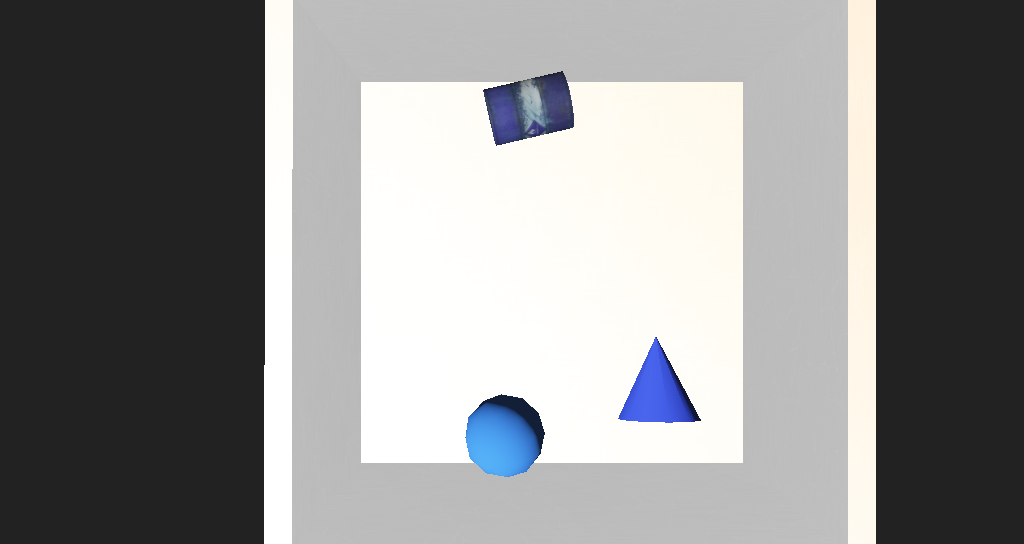cone: (448, 153, 522, 200)
cylinder: (552, 298, 620, 360)
sphere: (431, 334, 499, 382)
